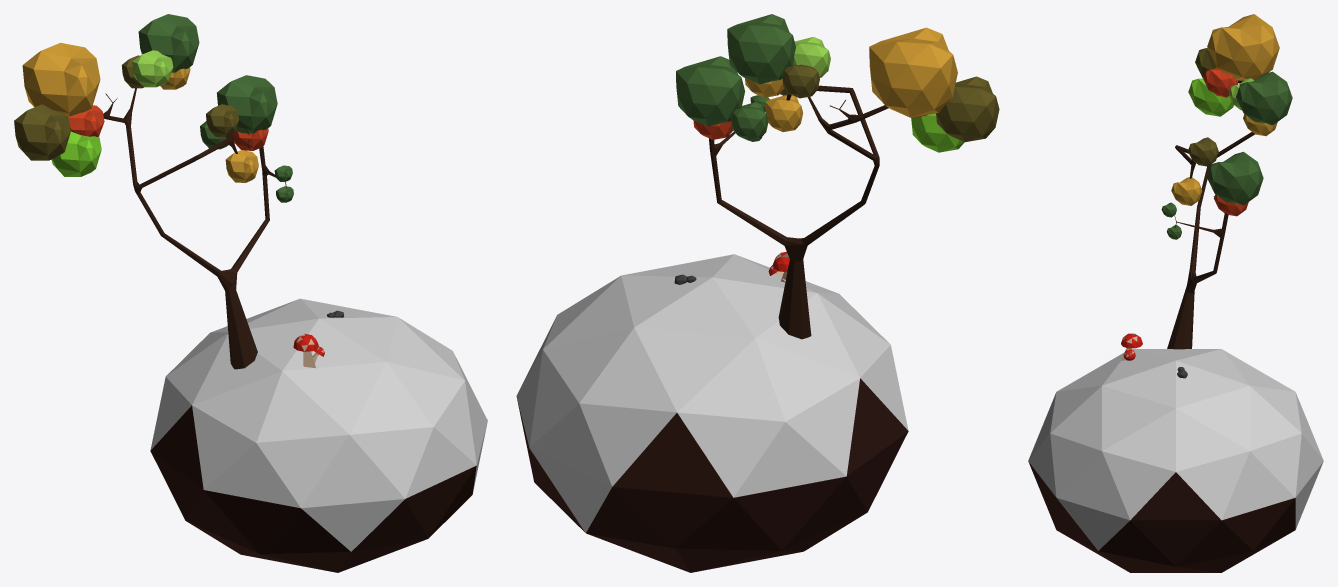
The model's file is smallIsland.obj.
The picture shows the model from 3 angles, left to right: view 1: azimuth 30°, elevation 25°; view 2: azimuth 150°, elevation 25°; view 3: azimuth 270°, elevation 25°; orthographic projection. The views are drawn at different scales.
Visible parts, largest first — view 1: Icosphere, Icosphere.014, Icosphere.002; view 2: Icosphere, Icosphere.014; view 3: Icosphere, Icosphere.014, Icosphere.002.
Part boxes in pixels (x1,y1,x2,y2): Icosphere: [150, 298, 487, 572]; Icosphere.014: [14, 14, 293, 369]; Icosphere.002: [293, 333, 324, 368]; Icosphere: [516, 254, 908, 572]; Icosphere.014: [676, 14, 999, 339]; Icosphere: [1028, 349, 1323, 572]; Icosphere.014: [1161, 14, 1292, 349]; Icosphere.002: [1121, 333, 1142, 360].
Bounding box in the file's own units: 94.89 × 115 × 68.4.
